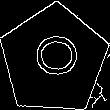O_W: (28, 37, 80, 83)
